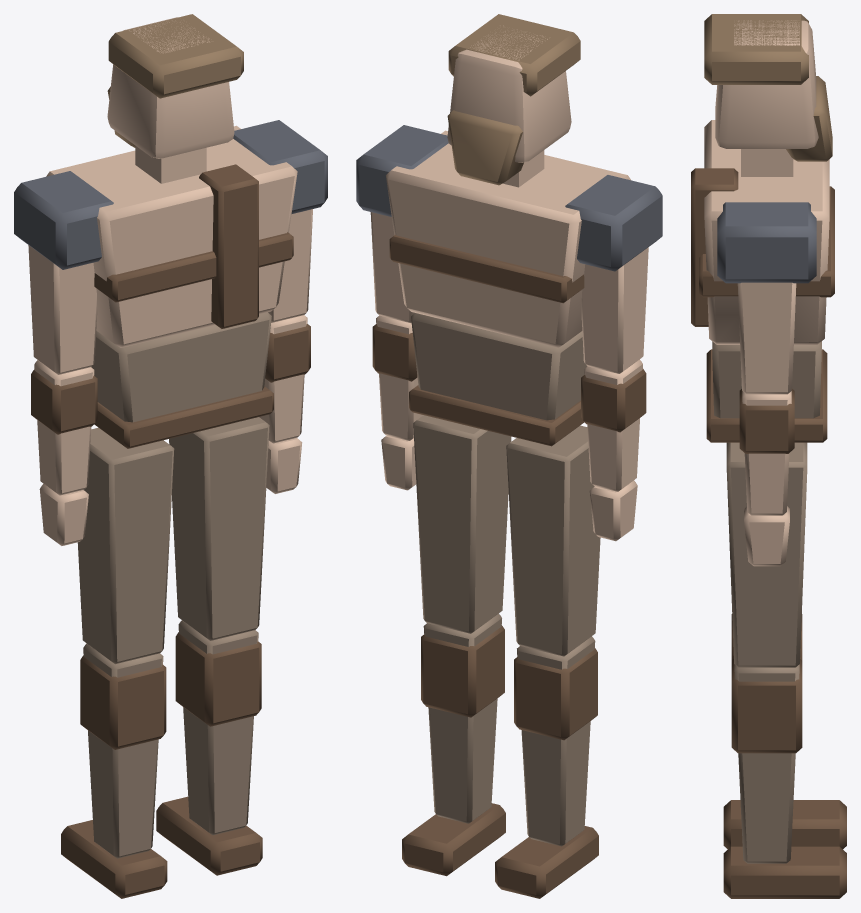
Rendered from player.glb.
3 renders of one model, left to right at view 1: azimuth 30°, elevation 25°; view 2: azimuth 150°, elevation 25°; view 3: azimuth 270°, elevation 25°, orthographic. The views are drawn at different scales.
Parts seen in each view (by area): view 1: Chest, Thigh_R, Thigh_L, Pelvis, Harness, Shin_L, Shin_R, Head, Hair, UpperArm_L, Pauldron_L, Greave_L (+13 smaller); view 2: Chest, Thigh_R, Thigh_L, Pelvis, Head, Shin_R, Shin_L, UpperArm_L, Pauldron_L, Greave_L, Greave_R, Hair (+14 smaller); view 3: Thigh_R, Chest, Head, Pauldron_R, Hair, Shin_R, UpperArm_R, Foot_R, Greave_R, Harness, Pelvis, Foot_L (+6 smaller).
Boxes of the visible parts, box(x1,y1,x2,y2) form: Chest: box(46, 125, 297, 347); Thigh_R: box(169, 417, 269, 640); Thigh_L: box(77, 427, 174, 664); Pelvis: box(91, 312, 271, 422); Harness: box(94, 164, 293, 328); Shin_L: box(83, 643, 163, 858); Shin_R: box(178, 620, 258, 835); Head: box(107, 17, 234, 158); Hair: box(108, 14, 243, 98); UpperArm_L: box(28, 245, 97, 374); Pauldron_L: box(14, 171, 113, 269); Greave_L: box(80, 655, 166, 749); Chest: box(386, 130, 630, 347); Thigh_R: box(413, 415, 511, 633); Thigh_L: box(506, 425, 600, 656); Pelvis: box(411, 313, 587, 420); Head: box(447, 25, 571, 162); Shin_R: box(423, 613, 501, 823); Shin_L: box(517, 636, 595, 846); UpperArm_L: box(581, 247, 648, 373); Pauldron_L: box(565, 175, 662, 271); Greave_L: box(514, 648, 597, 740); Greave_R: box(421, 625, 504, 717); Hair: box(448, 14, 580, 96); Thigh_R: box(726, 442, 807, 667); Chest: box(704, 120, 829, 344); Head: box(715, 20, 818, 148); Pauldron_R: box(717, 202, 816, 283); Hair: box(704, 14, 808, 84); Shin_R: box(734, 664, 799, 863); UpperArm_R: box(737, 282, 796, 394); Foot_R: box(723, 846, 846, 898); Greave_R: box(731, 659, 802, 753); Harness: box(691, 168, 834, 326); Pelvis: box(712, 341, 821, 418); Foot_L: box(723, 800, 846, 849).
Bounding box in the file's own units: 0.6 × 1.76 × 0.2975.
